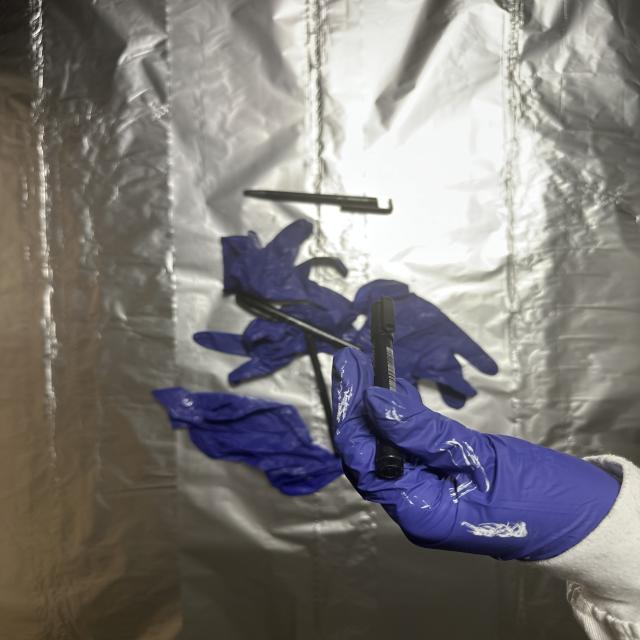gloves_contaminated: (334, 349, 621, 562)
